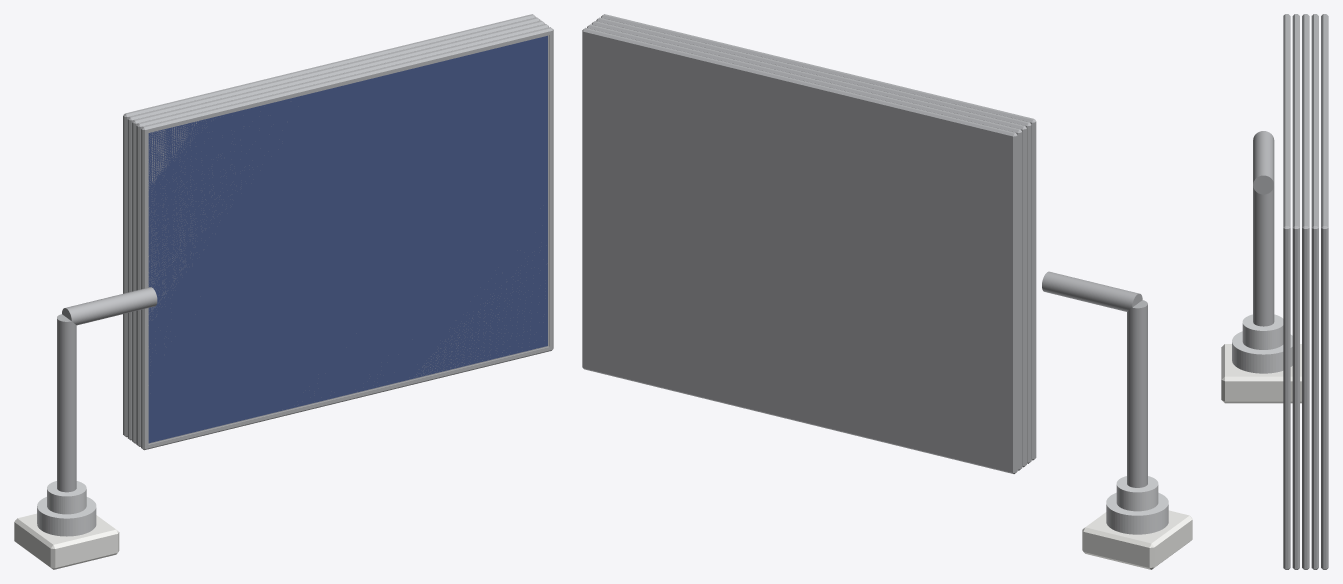
Rendered from ax_power_02_rigid_wing_l.glb.
3 renders of one model, left to right at view 1: azimuth 30°, elevation 25°; view 2: azimuth 150°, elevation 25°; view 3: azimuth 270°, elevation 25°, orthographic. The views are drawn at different scales.
Parts seen in each view (by area): view 1: panel_1_cells, panel_1, yoke, panel_4, panel_3, panel_2, panel_5, mount_block, gimbal; view 2: panel_5, yoke, panel_1, panel_4, panel_2, panel_3, mount_block, gimbal; view 3: panel_1, panel_2, panel_3, panel_4, panel_5, yoke, gimbal, mount_block.
Boxes of the visible parts, x1,y1,x2,y2 form: panel_1_cells: (148,35,547,443); panel_1: (141,27,553,450); yoke: (57,287,157,492); panel_4: (127,17,540,440); panel_3: (132,20,544,443); panel_2: (136,24,548,446); panel_5: (123,14,535,437); mount_block: (14,513,119,569); gimbal: (37,481,96,536); panel_5: (582,27,1017,473); yoke: (1042,271,1147,487); panel_1: (601,14,1036,460); panel_4: (587,24,1022,470); panel_2: (596,17,1031,463); panel_3: (591,21,1026,467); mount_block: (1082,510,1192,569); gimbal: (1106,476,1168,534); panel_1: (1283,14,1290,569); panel_2: (1292,14,1299,569); panel_3: (1302,14,1309,569); panel_4: (1311,14,1318,569); panel_5: (1321,14,1328,569); yoke: (1253,131,1274,326); gimbal: (1232,314,1292,373); mount_block: (1221,344,1301,403).
Bounding box in the file's own units: 3.1 × 2.19 × 0.5075.
